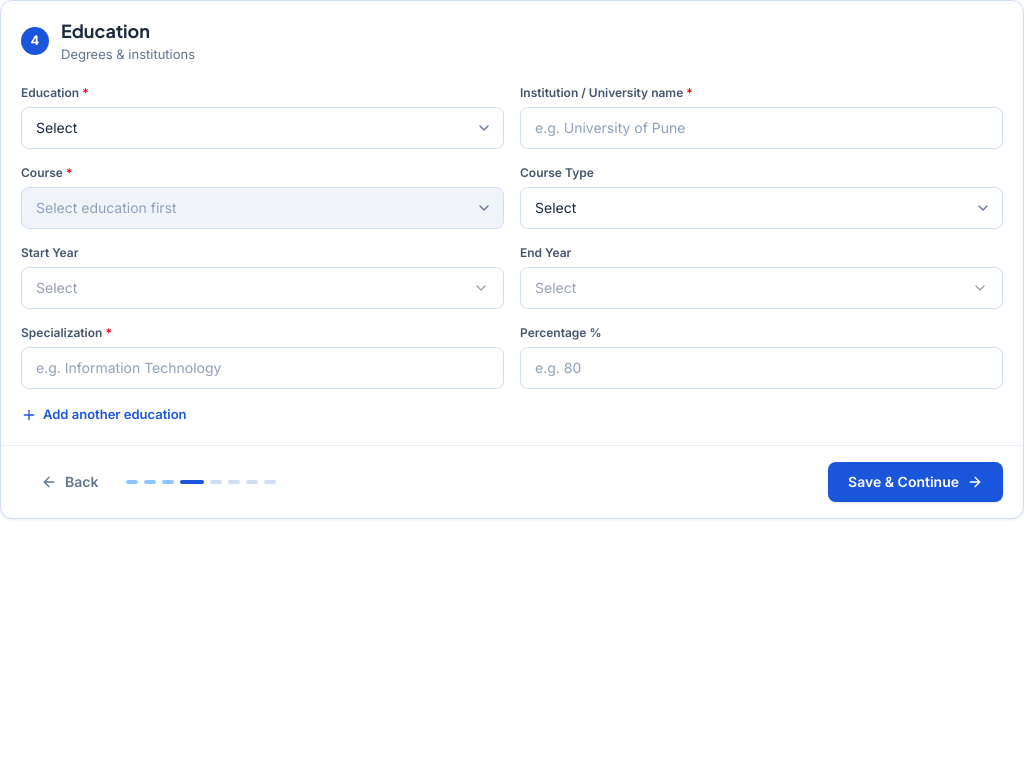
it: EducationStep › rejects a negative percentage
Select "B.Tech" in the dropdown labelled "Education *" at x=262, y=128, box [21,106,504,148]
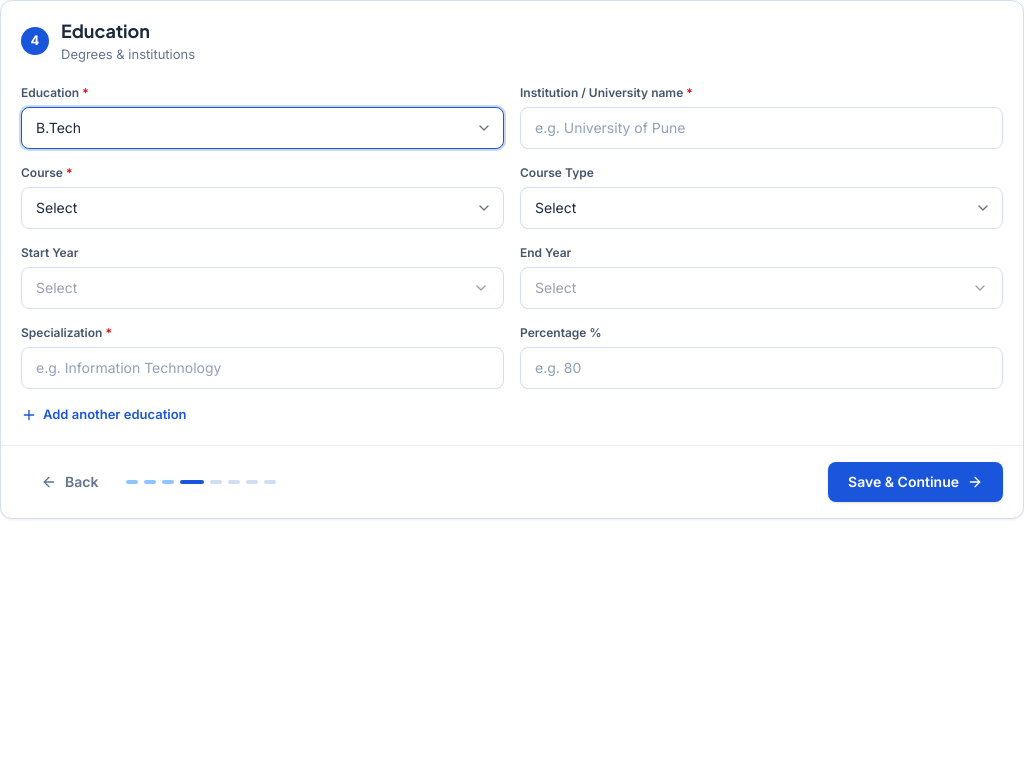
Type "Patna University" into the dropdown labelled "Institution / University name *".
click(762, 128); type("Patna University")  # box [520,106,1003,148]
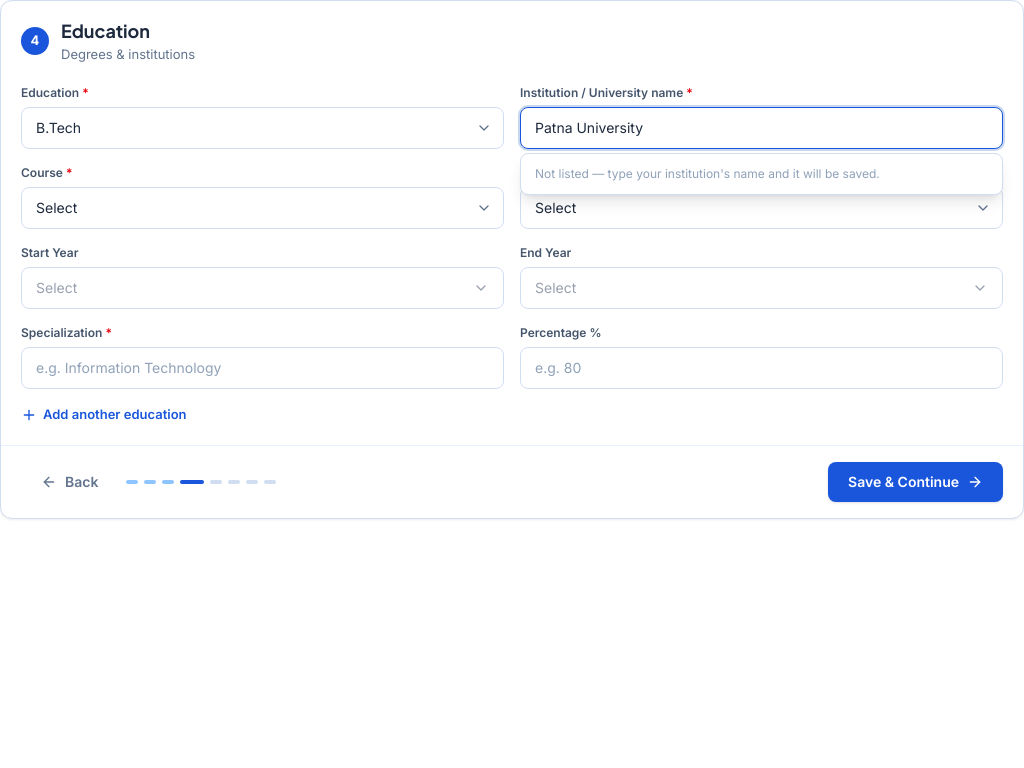
Select "Computer Science and Engineering" in the dropdown labelled "Course *" at x=262, y=208, box [21,186,504,228]
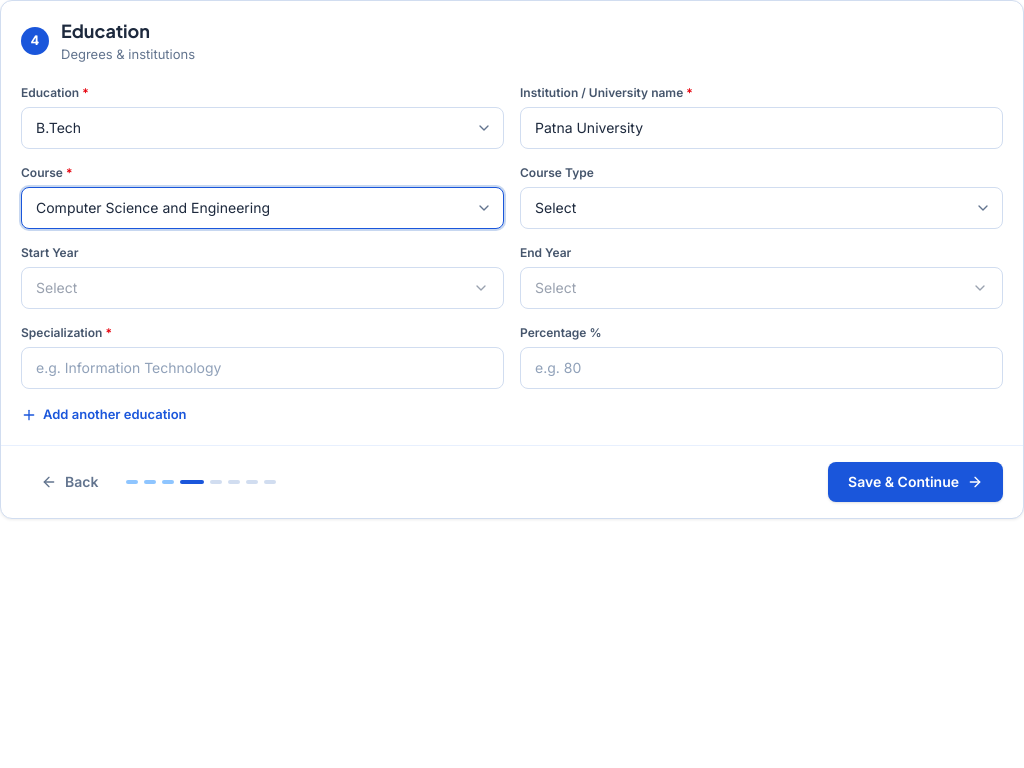
Type "Computer Science" into the field labelled "Specialization *".
click(262, 368); type("Computer Science")  # box [21,346,504,388]
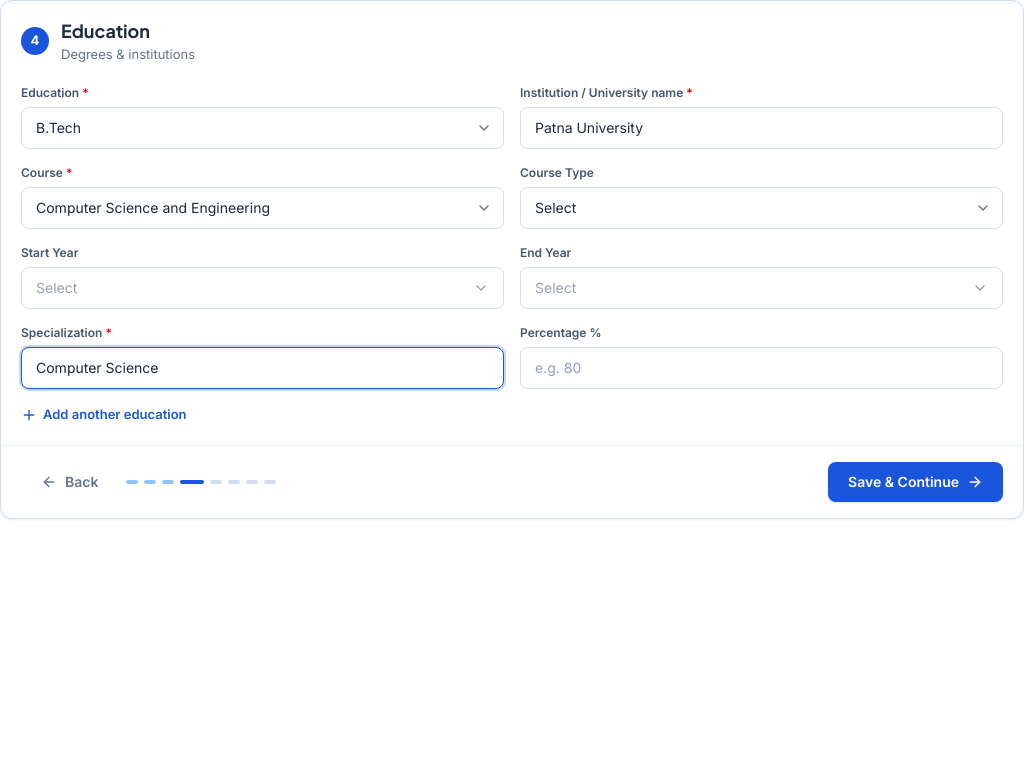
Type "-1" into the field labelled "Percentage %".
click(762, 368); type("-1")  # box [520,346,1003,388]
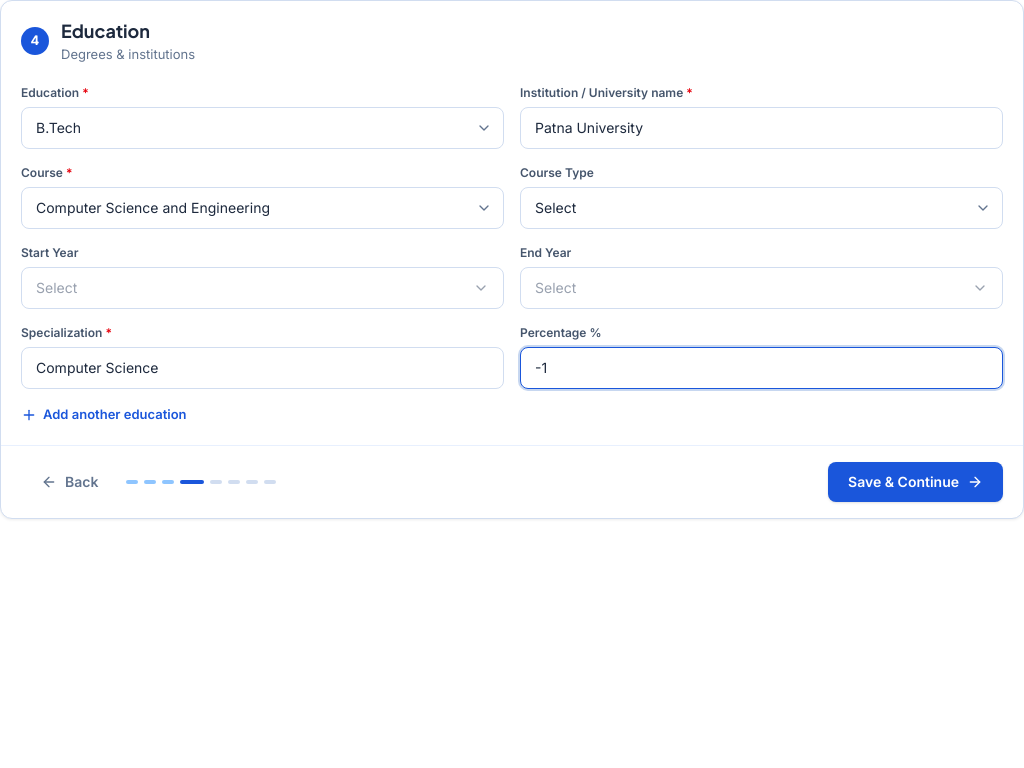
Click the button "Save & Continue".
click(916, 482)  # box [828,462,1003,502]
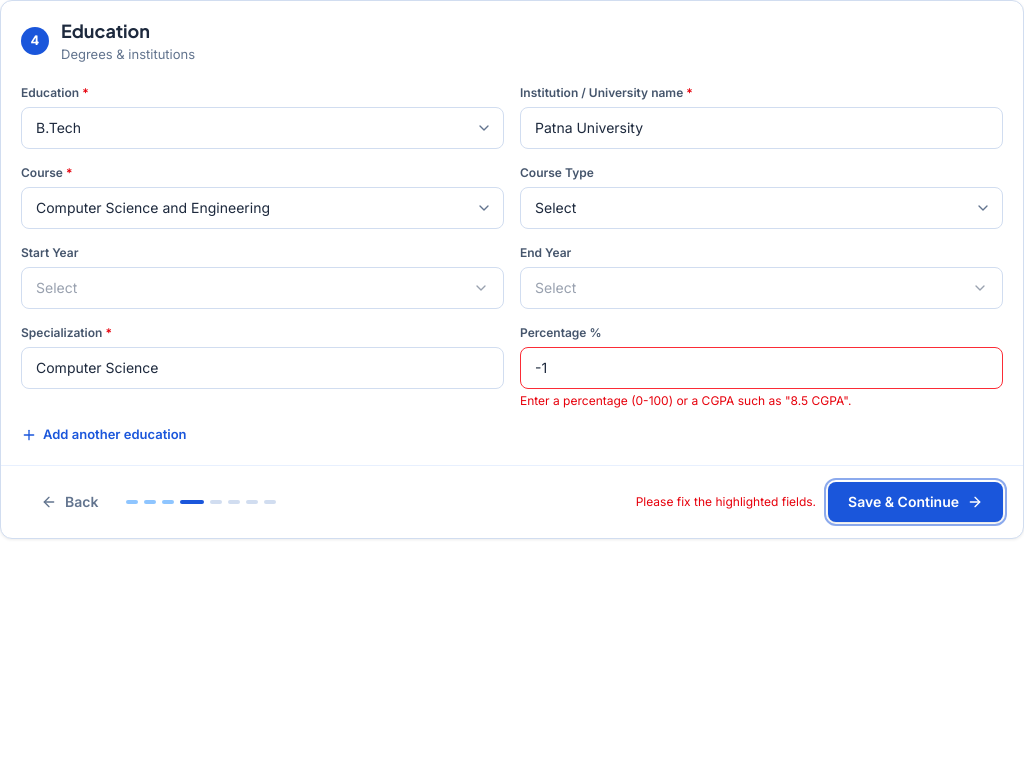
Expected: the text "Enter a percentage (0-100) or a CGPA such as \"8.5 CGPA\"." is shown, [520,392,851,408]
